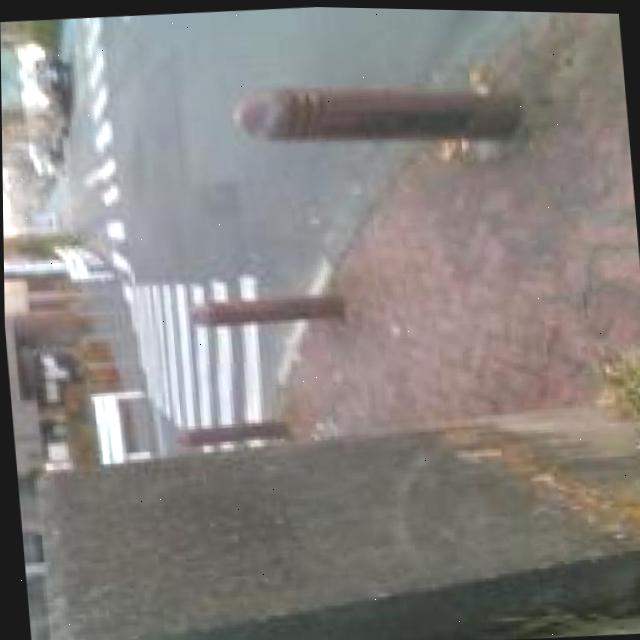Obstacle: (43, 430, 603, 640), (444, 425, 640, 540), (235, 86, 522, 139), (192, 292, 344, 324), (176, 420, 287, 445), (604, 352, 640, 422)
Road: (109, 5, 455, 289), (127, 281, 302, 429), (45, 15, 128, 273)
Sidewalk: (283, 10, 640, 437)
